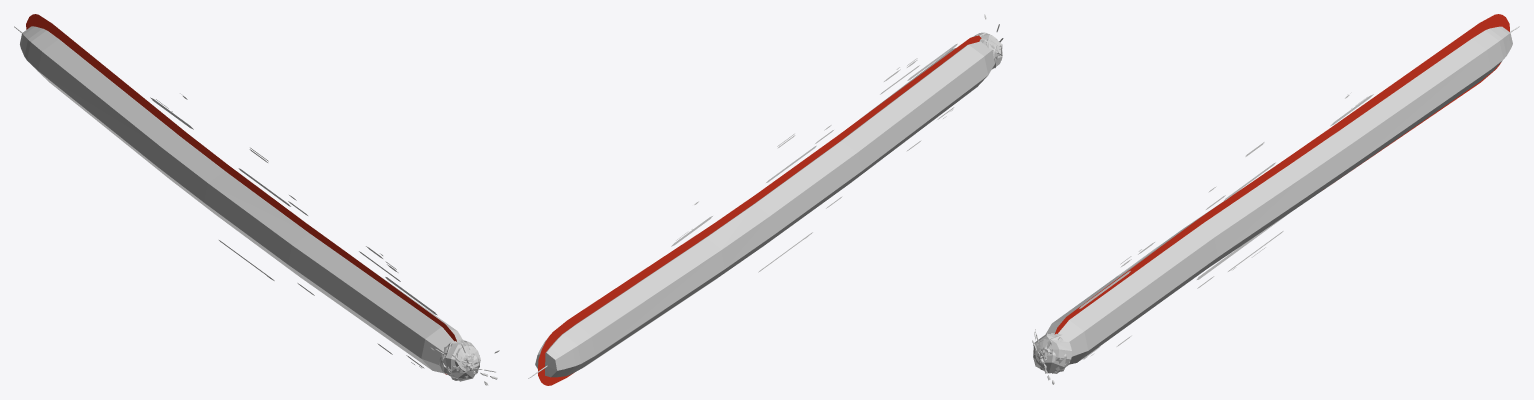
The model's file is Laser.fbx.
3 renders of one model, left to right at view 1: azimuth 30°, elevation 25°; view 2: azimuth 150°, elevation 25°; view 3: azimuth 330°, elevation 25°, orthographic. The views are drawn at different scales.
Parts seen in each view (by area): view 1: Laser; view 2: Laser; view 3: Laser.
Boxes of the visible parts, x1,y1,x2,y2 form: Laser: (14,14,499,385); Laser: (528,14,1003,385); Laser: (1032,14,1519,384).
Bounding box in the file's own units: 4.25 × 8.5 × 66.07.
